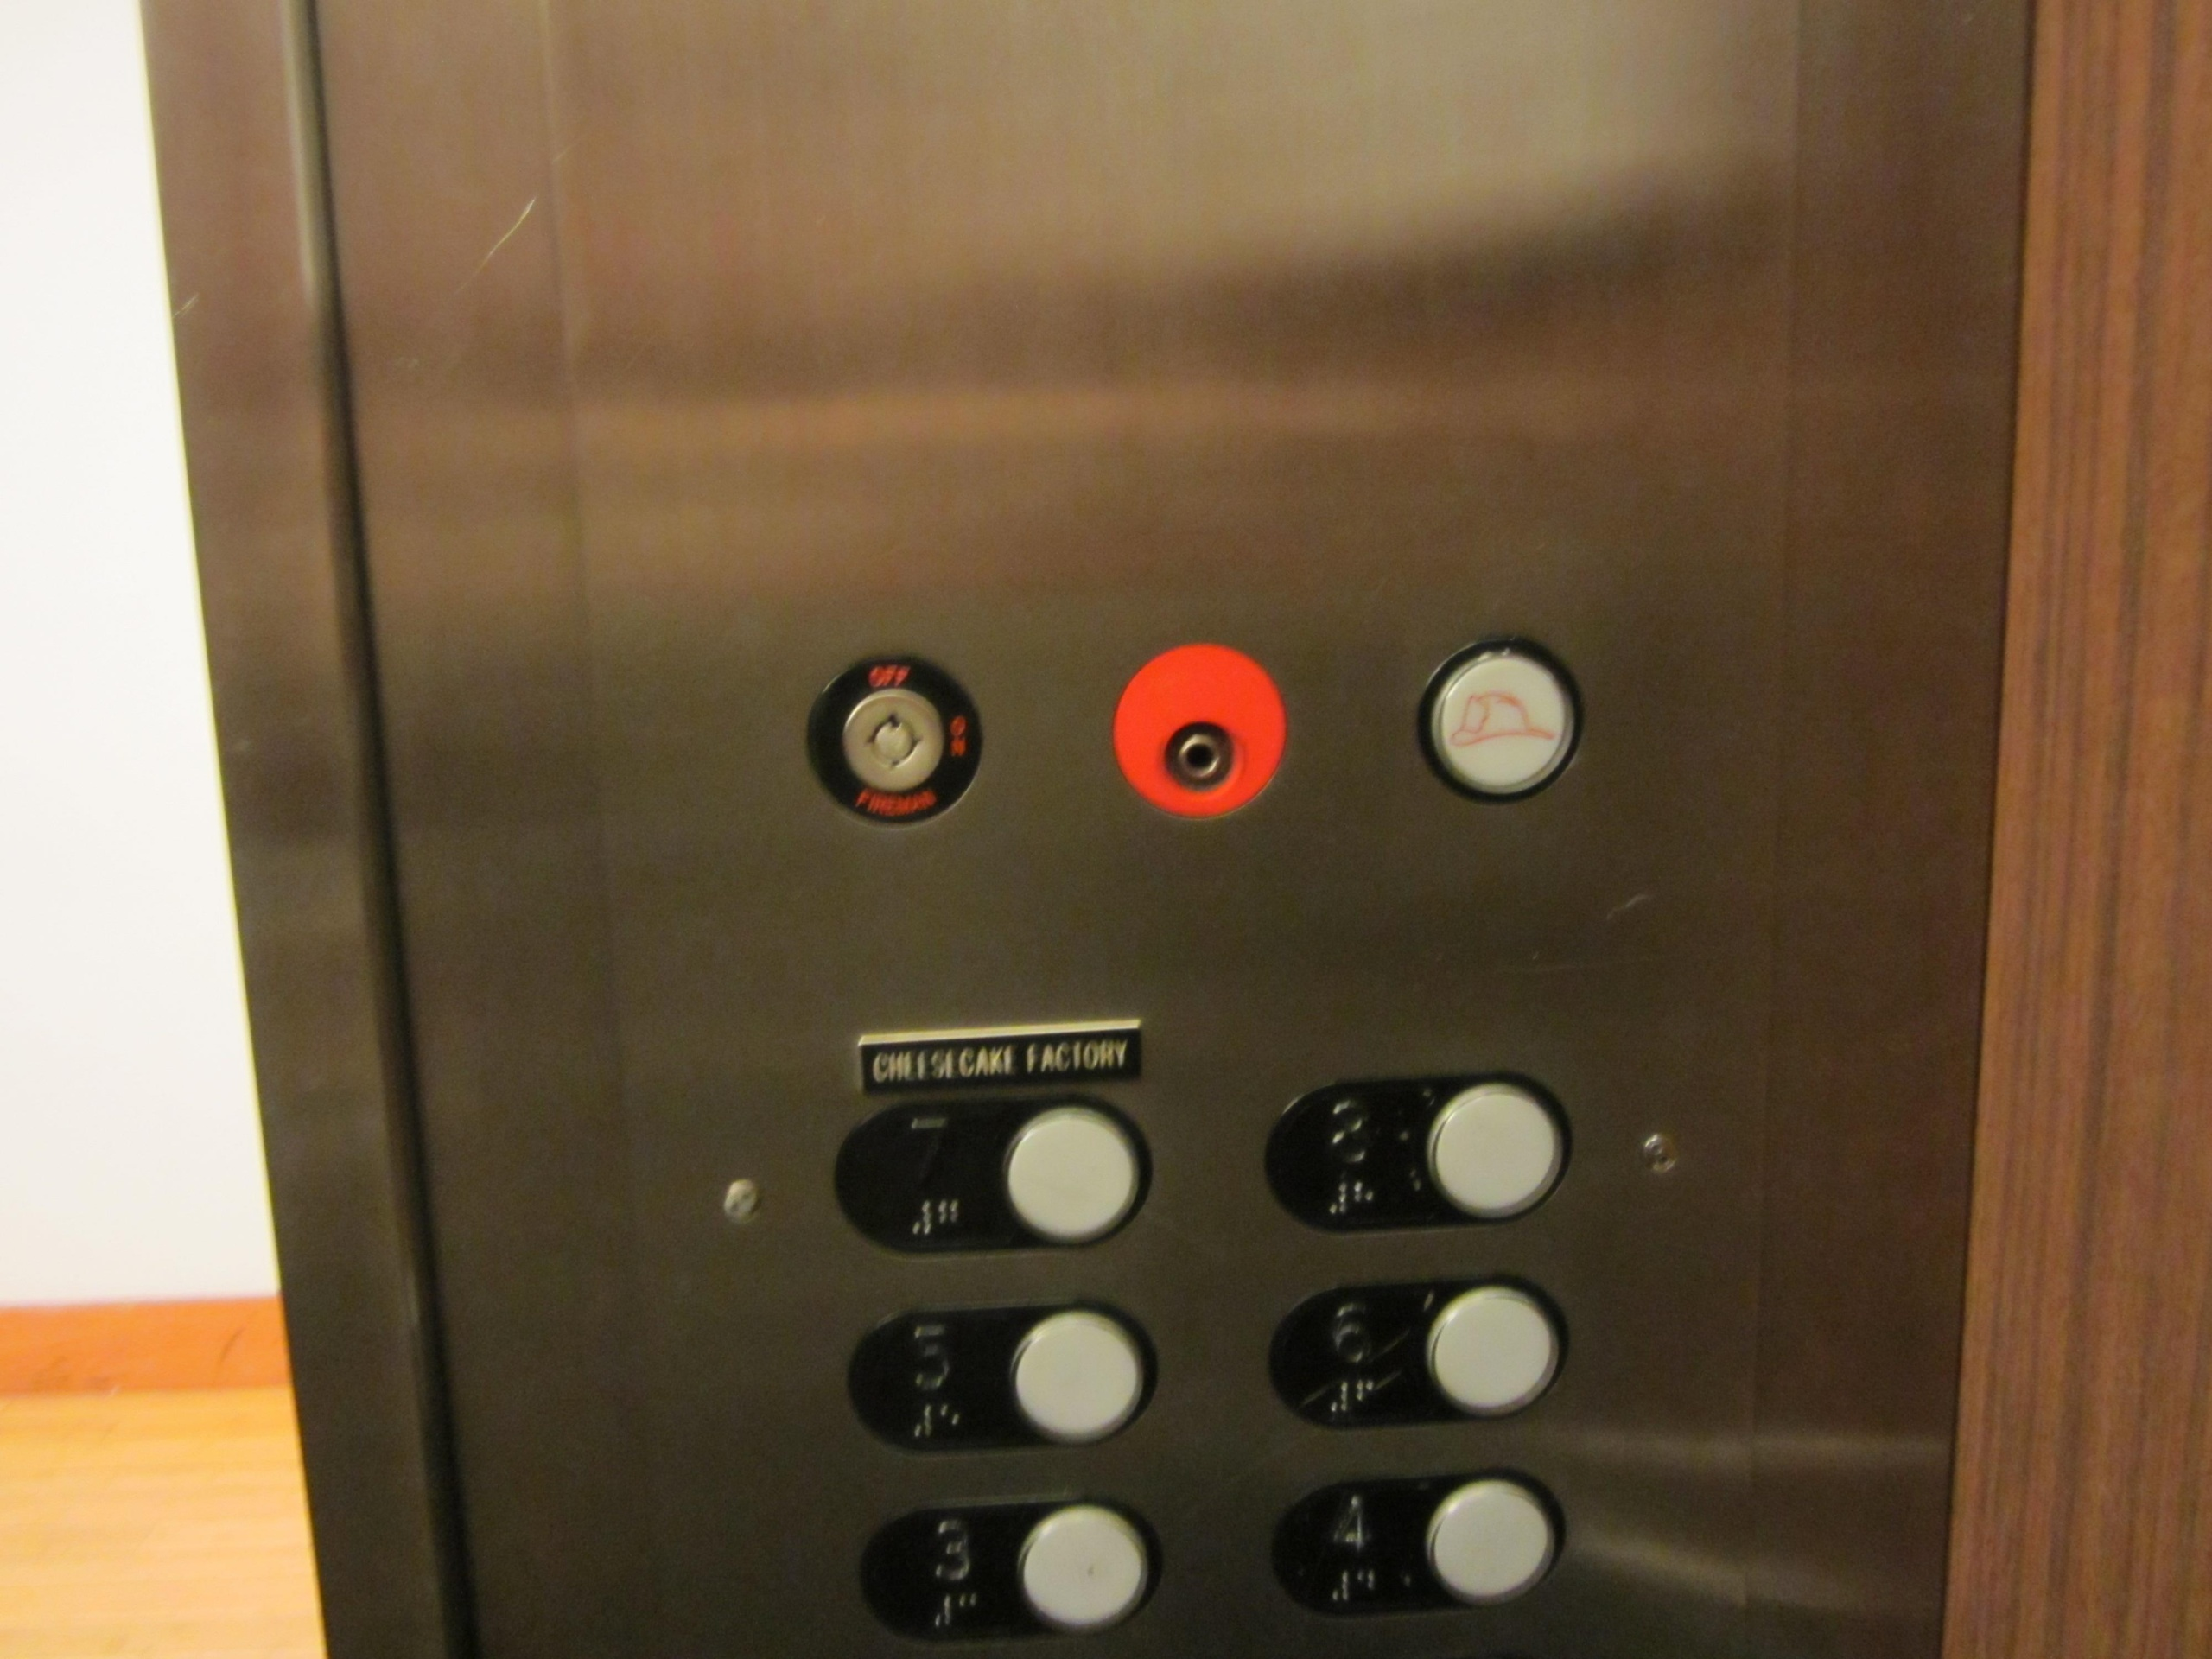3: (855, 1485, 1167, 1654)
4: (1266, 1466, 1573, 1624)
5: (843, 1298, 1163, 1457)
6: (1261, 1270, 1578, 1434)
7: (822, 1082, 1158, 1260)
8: (1258, 1065, 1578, 1239)
hat: (1418, 631, 1590, 809)
keyhole: (808, 645, 984, 833), (1111, 643, 1287, 824)
